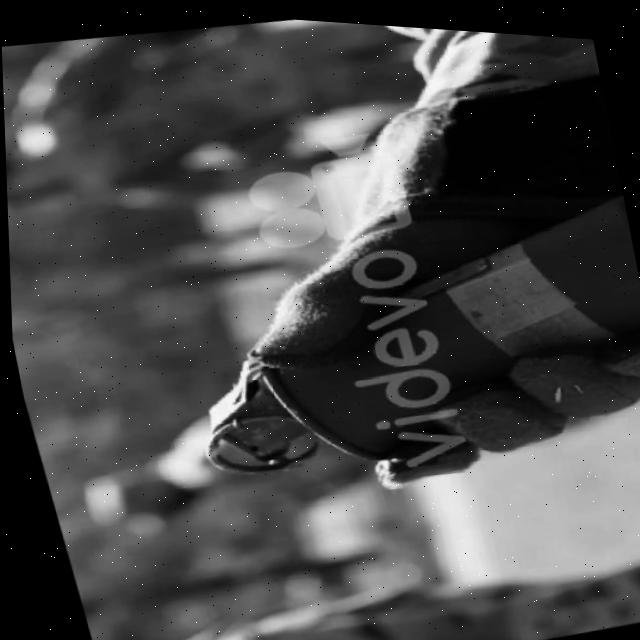grenade: (131, 153, 640, 522)
